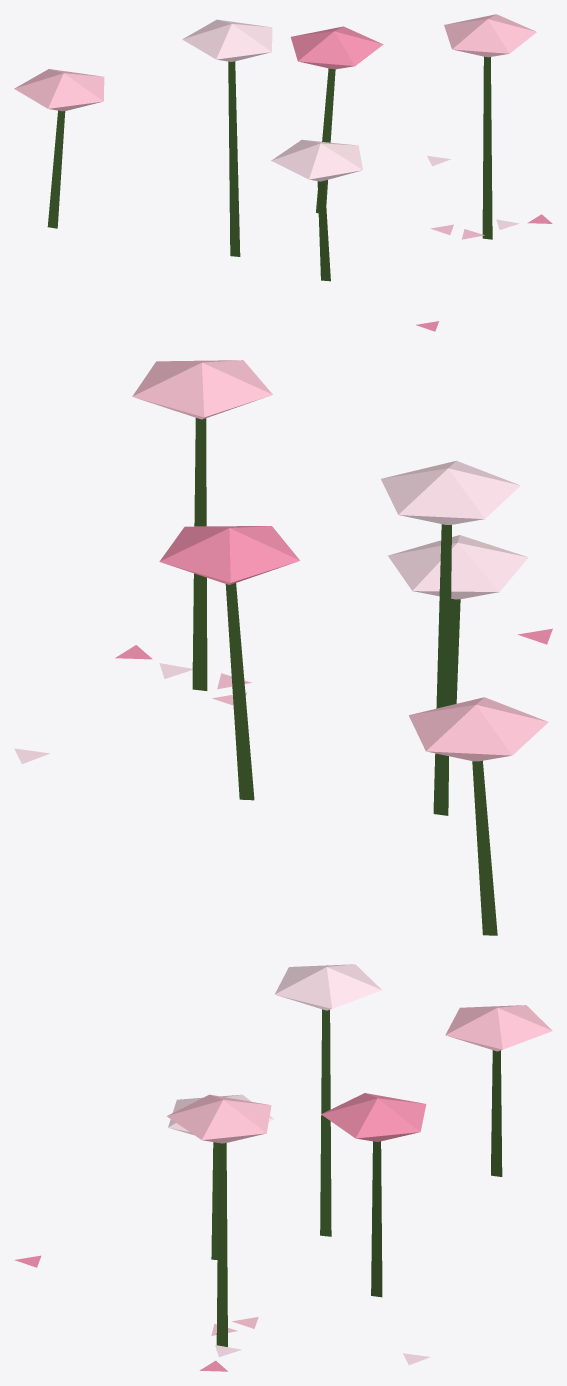
The model's file is deco_flowers.glb.
3 renders of one model, top to bottom at view 1: azimuth 30°, elevation 25°; view 2: azimuth 150°, elevation 25°; view 3: azimuth 270°, elevation 25°, orthographic. The views are drawn at different scales.
Visible parts, largest first — view 1: deco_flowers_mesh; view 2: deco_flowers_mesh; view 3: deco_flowers_mesh.
Part boxes in pixels (left/top/right/bottom): deco_flowers_mesh: left=14, top=14, right=552, bottom=331; deco_flowers_mesh: left=14, top=360, right=552, bottom=935; deco_flowers_mesh: left=14, top=964, right=552, bottom=1371.
Bounding box in the file's own units: 0.1474 × 0.0825 × 0.1515.
